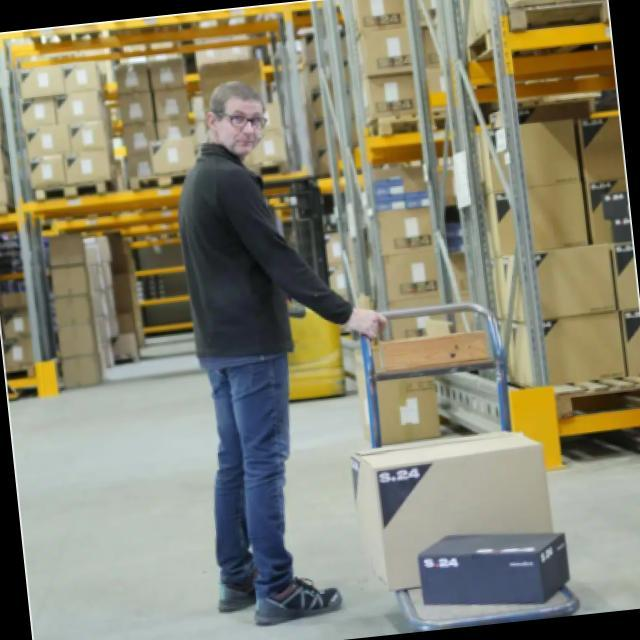shoes: (205, 550, 350, 637)
